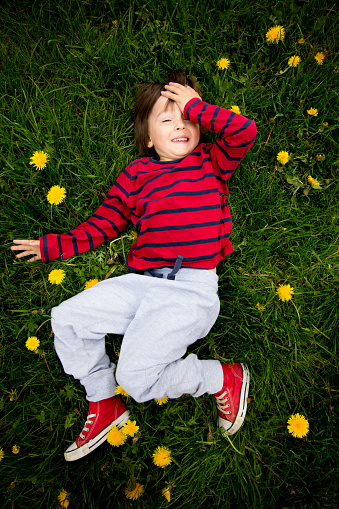deitado: (30, 61, 268, 459)
